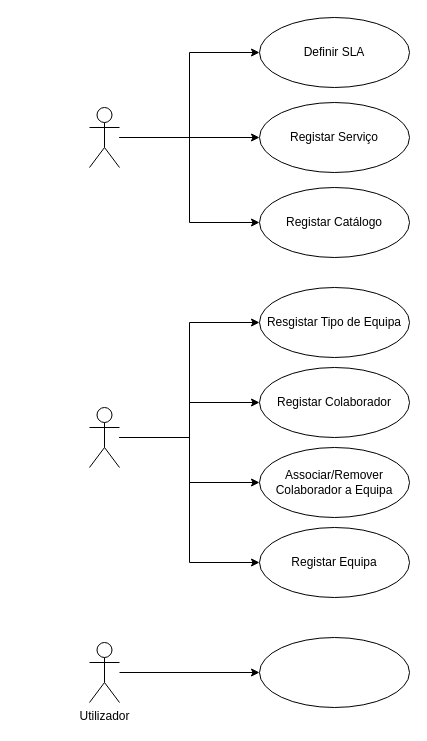
The diagram is 427 pixels wide and 741 high, and some of its shapes have lost their labels. Each missing label, with the centre of its shape:
"Consultar Catálogo" goes at (334,672).
"Gestor de Serviços de Helpdesk" goes at (104,137).
"Resp. de Recursos Humanos" goes at (104,437).
